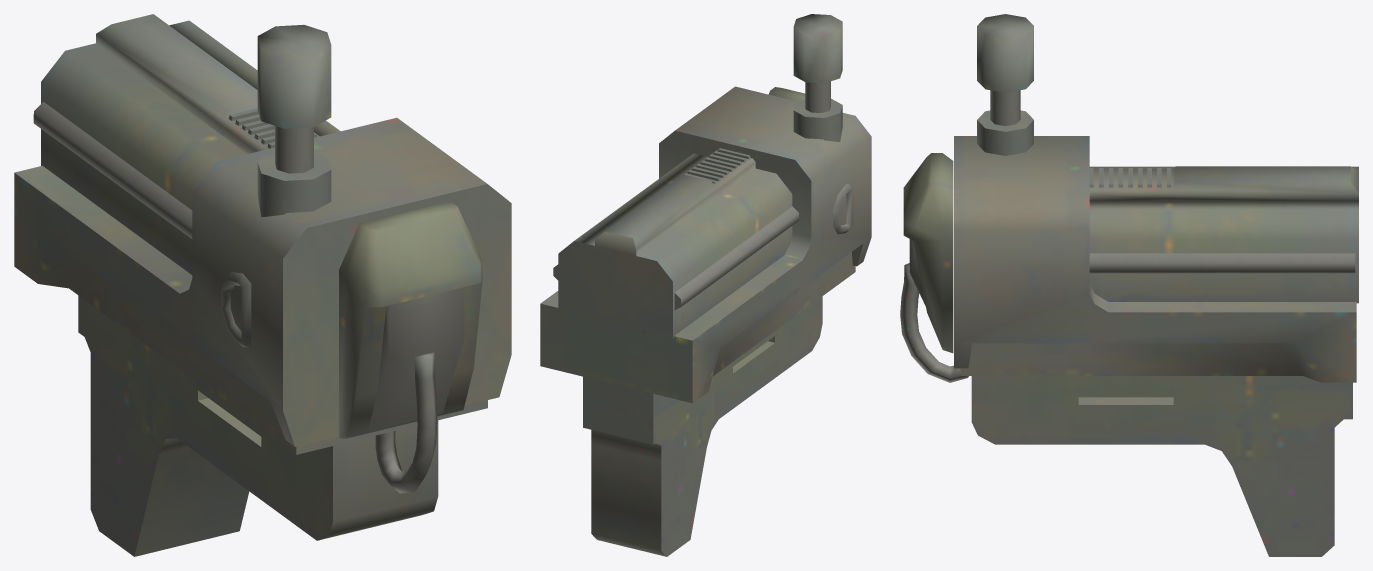
The model's file is stock1.obj.
3 renders of one model, left to right at view 1: azimuth 30°, elevation 25°; view 2: azimuth 150°, elevation 25°; view 3: azimuth 270°, elevation 25°, orthographic. The views are drawn at different scales.
Parts seen in each view (by area): view 1: stock1; view 2: stock1; view 3: stock1.
Part boxes in pixels (box(x1,y1,x2,y2)): stock1: box(14, 14, 511, 556); stock1: box(540, 14, 871, 556); stock1: box(900, 14, 1358, 556).
Bounding box in the file's own units: 12.26 × 32.28 × 27.58.
